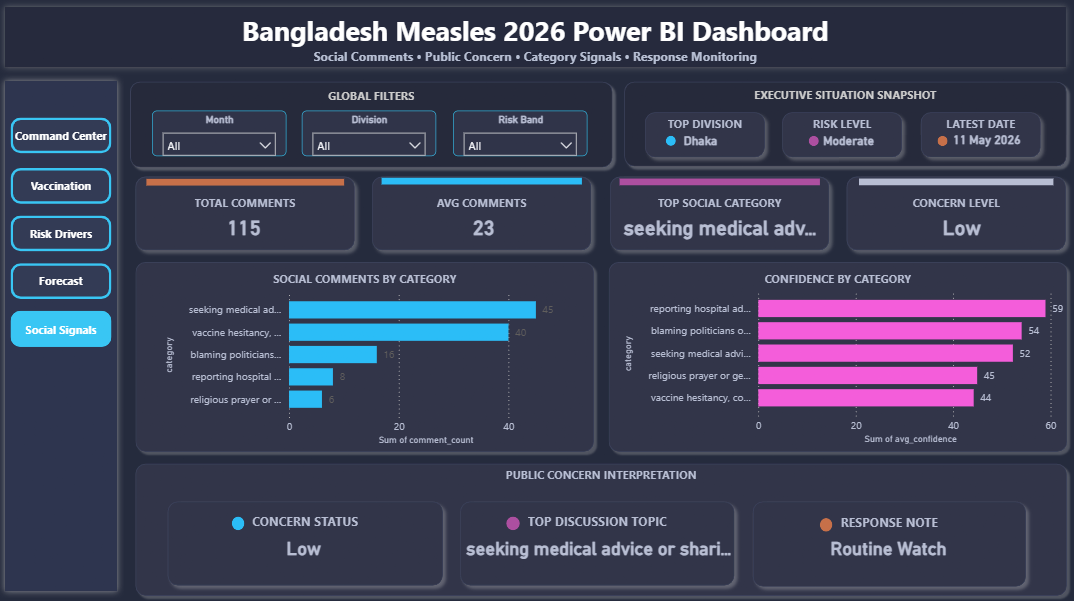

The page's visual inventory and layout, read from the dashboard file:
{"tool":"powerbi","page":{"name":"Social Signals","canvas":[1280,720],"ordinal":4},"visuals":[{"type":"shape","box":[150,90,588.9,116.7],"z":0},{"type":"shape","box":[0,0,1279.4,88.2],"z":1000},{"type":"textbox","box":[0.6,10,1279.4,76.5],"z":2000},{"type":"shape","box":[0,88.8,150,623.8],"z":3000},{"type":"actionButton","box":[15,140,120,42.5],"z":4000},{"type":"actionButton","box":[15,200.6,120,42.5],"z":5000},{"type":"actionButton","box":[15,256.9,120,42.5],"z":6000},{"type":"actionButton","box":[15,313.1,120,42.5],"z":7000},{"type":"actionButton","box":[15,370.6,120,43.1],"z":8000},{"type":"slicer","title":"Month","fields":{"Values":["Dim Date.month_name"]},"box":[183.3,132.2,160,54.4],"z":10000},{"type":"slicer","title":"Division ","fields":{"Values":["Dim Division.division"]},"box":[362.2,132.2,160,54.4],"z":11000},{"type":"slicer","title":"Risk Band","fields":{"Values":["Dim Division.Risk Band"]},"box":[541.1,132.2,160,54.4],"z":12000},{"type":"shape","title":"TOTAL CASES","box":[155,201.7,278.3,105],"z":13000},{"type":"shape","box":[720,201,278.3,105],"z":14000},{"type":"shape","box":[436.7,201,278.3,105],"z":15000},{"type":"shape","box":[1001.7,201,278.3,105],"z":16000},{"type":"shape","box":[176.2,180,235.4,73.8],"z":17000},{"type":"shape","box":[739.2,180,238.5,73.1],"z":18000},{"type":"shape","box":[1024.6,180,231.5,73.1],"z":19000},{"type":"shape","box":[456.9,178.5,238.5,74.6],"z":20000},{"type":"shape","box":[738.9,90,541.1,115.6],"z":21000},{"type":"shape","box":[761.1,124.4,160,71.1],"z":22000},{"type":"shape","box":[925.6,124.4,160,71.1],"z":23000},{"type":"shape","box":[1090,124.4,160,71.1],"z":24000},{"type":"advanceCardE03760C5AB684758B56AA29F9E6C257B","fields":{"mainMeasure":["_Measures.Top Division by Cases"]},"box":[795.4,153.8,83.1,28.5],"z":25000},{"type":"advanceCardE03760C5AB684758B56AA29F9E6C257B","fields":{"mainMeasure":["_Measures.Executive Risk Level"]},"box":[960.8,148.5,106.2,38.5],"z":26000},{"type":"advanceCardE03760C5AB684758B56AA29F9E6C257B","fields":{"mainMeasure":["_Measures.Latest Reporting Date"]},"box":[1118.5,140,118.5,52.3],"z":27000},{"type":"shape","box":[795.4,162.3,12,12],"z":28000},{"type":"shape","box":[965.4,161.5,12.3,12.3],"z":29000},{"type":"shape","box":[1118.5,162.3,12.3,12.3],"z":30000},{"type":"shape","box":[157.1,305,560,240],"z":31000},{"type":"shape","box":[720,305.7,560,240],"z":32000},{"type":"shape","box":[157.1,545.7,1122.9,171.4],"z":33000},{"type":"shape","box":[192.5,588.8,345,117.5],"z":34000},{"type":"shape","box":[541.2,588.8,343.8,117.5],"z":35000},{"type":"advanceCardE03760C5AB684758B56AA29F9E6C257B","fields":{"mainMeasure":["_Measures.Social Concern Level"]},"box":[202.5,608.8,322.5,90],"z":36000},{"type":"shape","box":[890,588.8,342.5,118.8],"z":37000},{"type":"advanceCardE03760C5AB684758B56AA29F9E6C257B","fields":{"mainMeasure":["_Measures.Top Social Category"]},"box":[551.2,608.8,327.5,90],"z":38000},{"type":"advanceCardE03760C5AB684758B56AA29F9E6C257B","fields":{"mainMeasure":["_Measures.Social Response Note"]},"box":[898.8,608.8,323.8,90],"z":39000},{"type":"shape","box":[278.8,615,15,16.2],"z":40000},{"type":"shape","box":[605,615,16.2,16.2],"z":41000},{"type":"shape","box":[977.5,616.2,15,16.2],"z":42000},{"type":"advanceCardE03760C5AB684758B56AA29F9E6C257B","fields":{"mainMeasure":["_Measures.Total Social Comments"]},"box":[175.7,242.9,235.7,57.1],"z":43000},{"type":"advanceCardE03760C5AB684758B56AA29F9E6C257B","fields":{"mainMeasure":["_Measures.Avg Social Comments"]},"box":[442.9,242.9,270,57.1],"z":44000},{"type":"advanceCardE03760C5AB684758B56AA29F9E6C257B","fields":{"mainMeasure":["_Measures.Top Social Category"]},"box":[738.9,243,243,56.5],"z":45000},{"type":"advanceCardE03760C5AB684758B56AA29F9E6C257B","fields":{"mainMeasure":["_Measures.Social Concern Level"]},"box":[1014.5,243,265.6,56.5],"z":46000},{"type":"clusteredBarChart","fields":{"Category":["Social Signals.category"],"Y":["Sum(Social Signals.comment_count)"]},"box":[193.3,334.2,491.7,200],"z":47000},{"type":"clusteredBarChart","fields":{"Category":["Social Signals.category"],"Y":["Sum(Social Signals.avg_confidence)"]},"box":[740,334,540,200],"z":47001}]}

Visuals, with their boxes in screenshot pixels (x1, y1, x2, y2), scaled from the page's 1280x720 canvas onto the 1074x601 screenshot:
shape: [126,75,620,173]
shape: [0,0,1073,74]
textbox: [1,8,1073,72]
shape: [0,74,126,595]
actionButton: [13,117,113,152]
actionButton: [13,167,113,203]
actionButton: [13,214,113,250]
actionButton: [13,261,113,297]
actionButton: [13,309,113,345]
"Month" slicer: [154,110,288,156]
"Division " slicer: [304,110,438,156]
"Risk Band" slicer: [454,110,588,156]
"TOTAL CASES" shape: [130,168,364,256]
shape: [604,168,838,255]
shape: [366,168,600,255]
shape: [840,168,1073,255]
shape: [148,150,345,212]
shape: [620,150,820,211]
shape: [860,150,1054,211]
shape: [383,149,583,211]
shape: [620,75,1073,172]
shape: [639,104,773,163]
shape: [777,104,911,163]
shape: [915,104,1049,163]
advanceCardE03760C5AB684758B56AA29F9E6C257B - _Measures.Top Division by Cases: [667,128,737,152]
advanceCardE03760C5AB684758B56AA29F9E6C257B - _Measures.Executive Risk Level: [806,124,895,156]
advanceCardE03760C5AB684758B56AA29F9E6C257B - _Measures.Latest Reporting Date: [938,117,1038,161]
shape: [667,135,677,145]
shape: [810,135,820,145]
shape: [938,135,949,146]
shape: [132,255,602,455]
shape: [604,255,1073,456]
shape: [132,456,1073,599]
shape: [162,491,451,590]
shape: [454,491,743,590]
advanceCardE03760C5AB684758B56AA29F9E6C257B - _Measures.Social Concern Level: [170,508,441,583]
shape: [747,491,1034,591]
advanceCardE03760C5AB684758B56AA29F9E6C257B - _Measures.Top Social Category: [462,508,737,583]
advanceCardE03760C5AB684758B56AA29F9E6C257B - _Measures.Social Response Note: [754,508,1026,583]
shape: [234,513,247,527]
shape: [508,513,521,527]
shape: [820,514,833,528]
advanceCardE03760C5AB684758B56AA29F9E6C257B - _Measures.Total Social Comments: [147,203,345,250]
advanceCardE03760C5AB684758B56AA29F9E6C257B - _Measures.Avg Social Comments: [372,203,598,250]
advanceCardE03760C5AB684758B56AA29F9E6C257B - _Measures.Top Social Category: [620,203,824,250]
advanceCardE03760C5AB684758B56AA29F9E6C257B - _Measures.Social Concern Level: [851,203,1073,250]
clusteredBarChart - Social Signals.category x Sum(Social Signals.comment_count): [162,279,575,446]
clusteredBarChart - Social Signals.category x Sum(Social Signals.avg_confidence): [621,279,1073,446]
